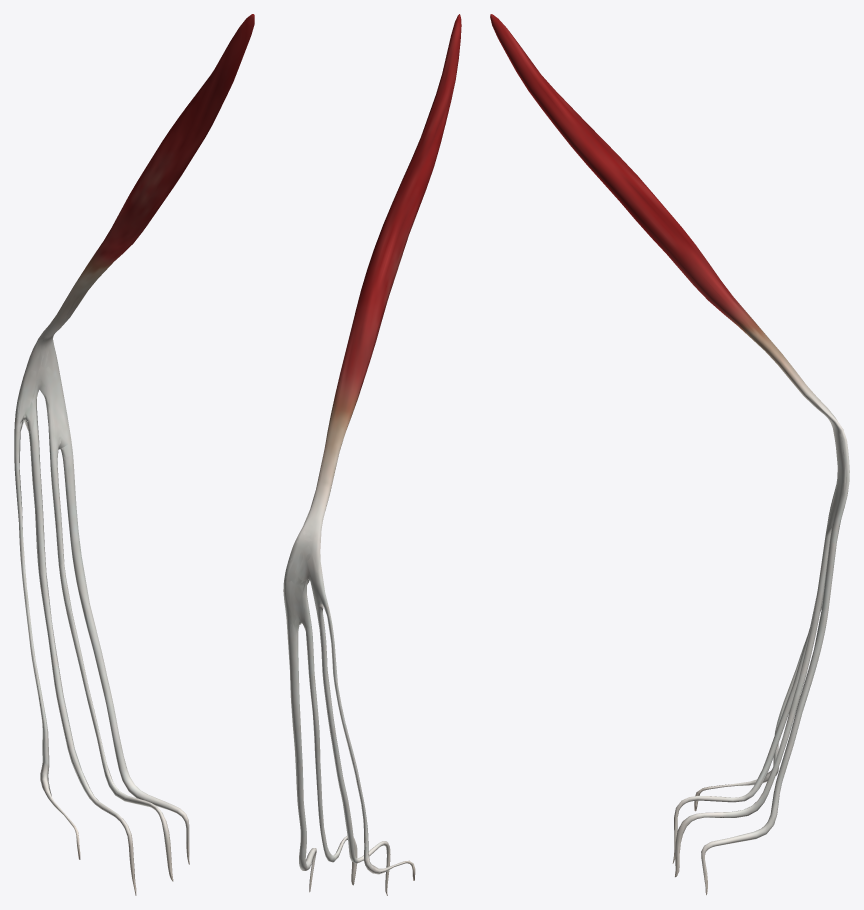
File: L Extensor digitorum longus.fbx
3 views of the same model, side by side, from view 1: azimuth 30°, elevation 25°; view 2: azimuth 150°, elevation 25°; view 3: azimuth 270°, elevation 25° (orthographic). The views are drawn at different scales.
Parts seen in each view (by area): view 1: L Extensor digitorum longus, L Extensor digitorum longus low, L Extensor digitorum longus high; view 2: L Extensor digitorum longus, L Extensor digitorum longus low, L Extensor digitorum longus high; view 3: L Extensor digitorum longus, L Extensor digitorum longus low, L Extensor digitorum longus high.
Boxes of the visible parts, x1,y1,x2,y2 form: L Extensor digitorum longus: [14, 14, 254, 895]; L Extensor digitorum longus low: [14, 22, 250, 889]; L Extensor digitorum longus high: [17, 19, 251, 893]; L Extensor digitorum longus: [283, 14, 461, 895]; L Extensor digitorum longus low: [284, 22, 461, 894]; L Extensor digitorum longus high: [285, 18, 460, 892]; L Extensor digitorum longus: [490, 14, 849, 895]; L Extensor digitorum longus low: [491, 21, 846, 893]; L Extensor digitorum longus high: [491, 17, 844, 893].
Bounding box in the file's own units: 1.87 × 14.4 × 5.48.
1 material, 1 textured.
